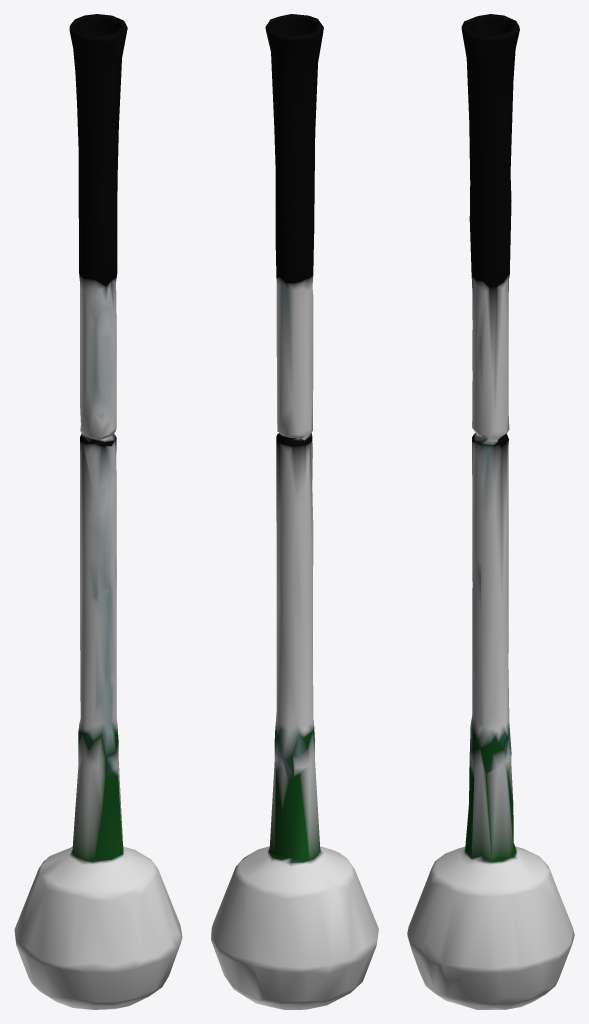
The model's file is gen3d-golf-lod1.glb.
3 renders of one model, left to right at view 1: azimuth 30°, elevation 25°; view 2: azimuth 150°, elevation 25°; view 3: azimuth 270°, elevation 25°, orthographic.
Parts seen in each view (by area): view 1: part_0; view 2: part_0; view 3: part_0.
Part boxes in pixels (bbox=[...]): part_0: bbox=[14, 14, 182, 1009]; part_0: bbox=[211, 14, 378, 1009]; part_0: bbox=[407, 14, 574, 1009].
Bounding box in the file's own units: 0.1575 × 1 × 0.1574.
